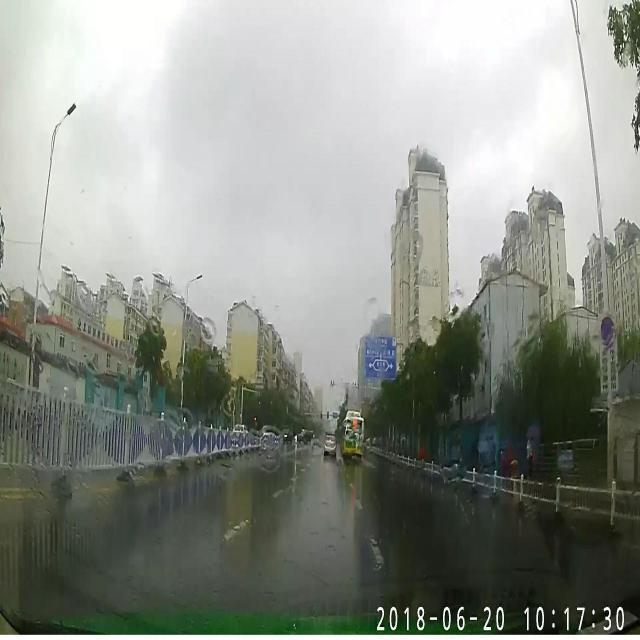car: (322, 430, 337, 458)
